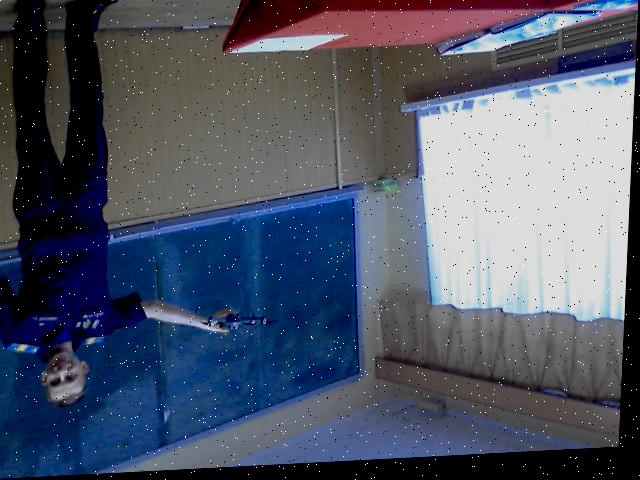drone: (188, 304, 292, 363)
